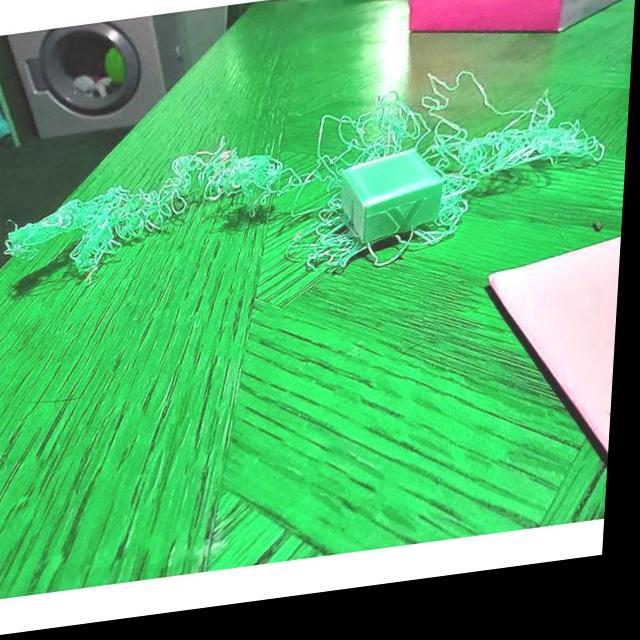spaghetti: (0, 130, 291, 304), (279, 76, 486, 298), (476, 94, 617, 197)
